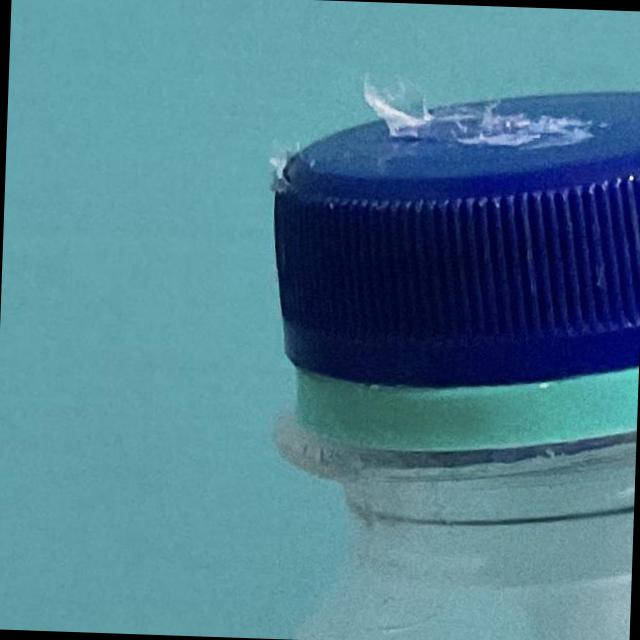Good-cap-Df0S: (241, 67, 640, 462)
